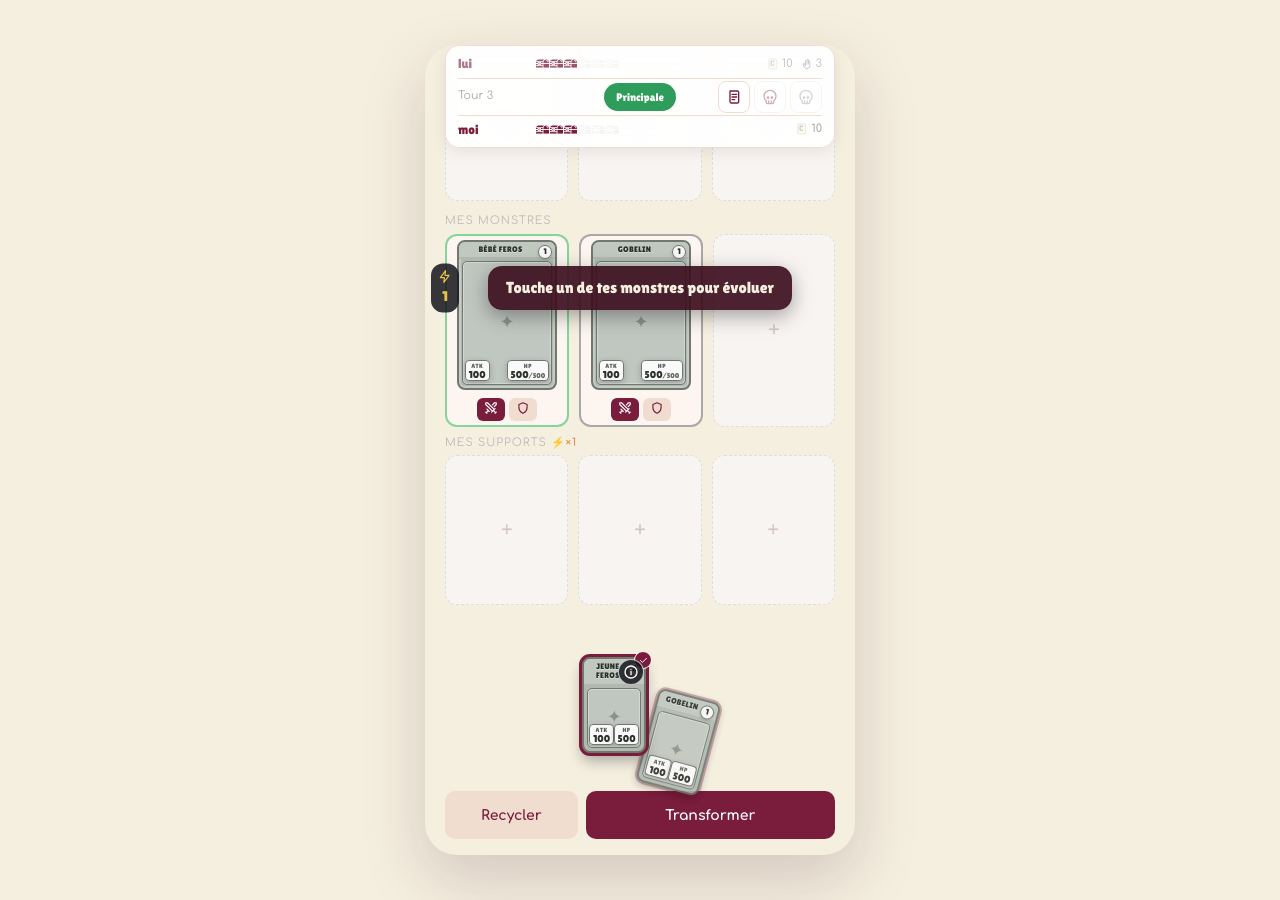
FightBoard — évolution › changer de carte sélectionnée abandonne l'évolution en attente
(page scrolled)
Click the element with class "zr-zone" that starts with "Bébé Feros": point(507, 330) [445,234,569,426]
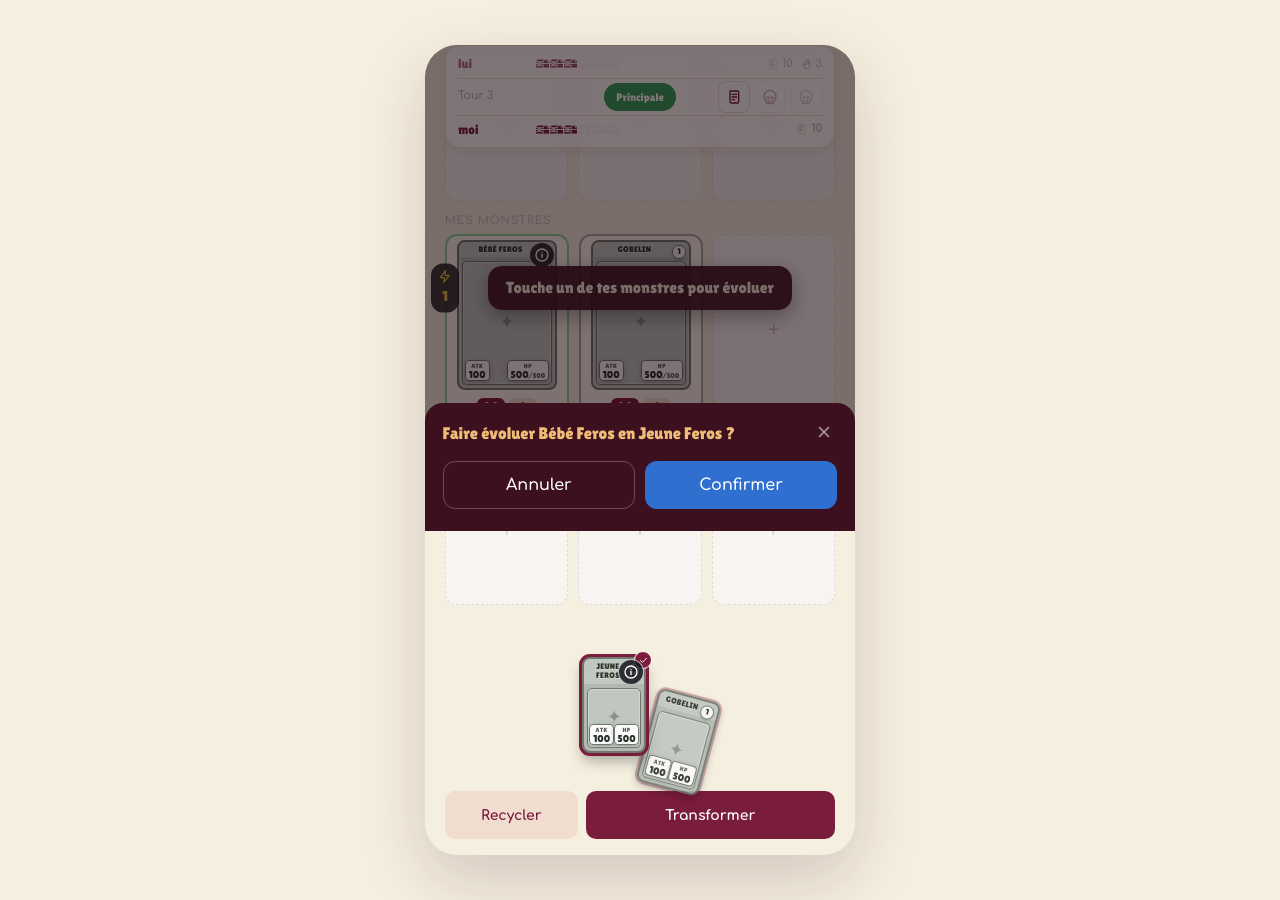
Now the dialog is shown, box [425,403,855,531]
